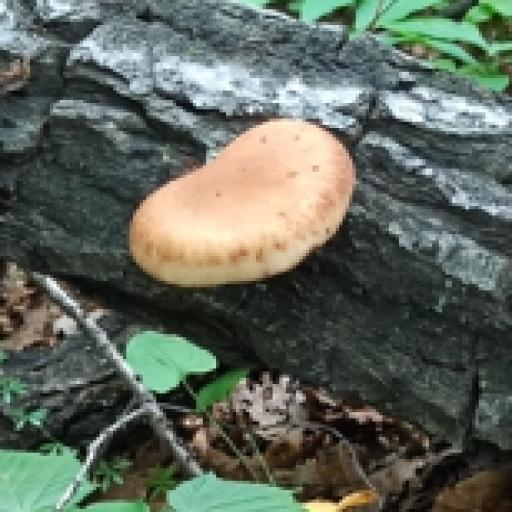Shiitake Mushroom: (116, 101, 370, 330)
